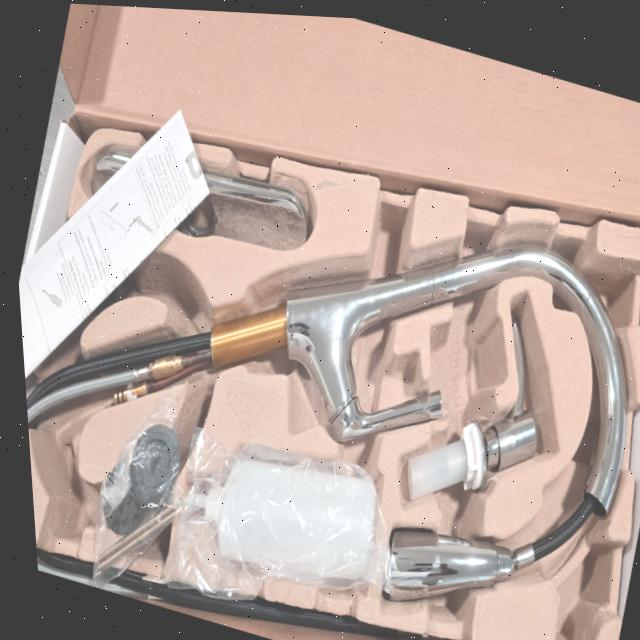1: (28, 243, 627, 599)
2: (407, 313, 540, 502)
3: (186, 458, 380, 590)
4o: (92, 152, 309, 253)
5m: (77, 247, 117, 315)
6m: (43, 442, 86, 519)
7: (94, 386, 186, 576)
8: (19, 107, 210, 375)
